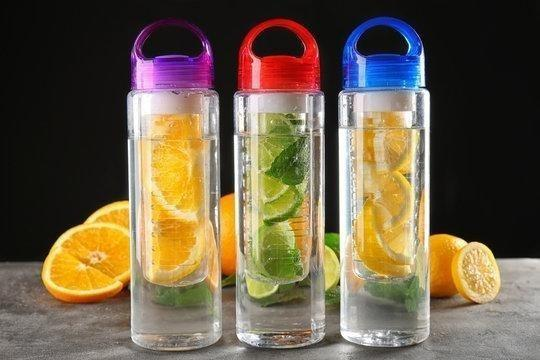gym bottle: (125, 16, 224, 353), (231, 17, 329, 354), (336, 15, 433, 349)
